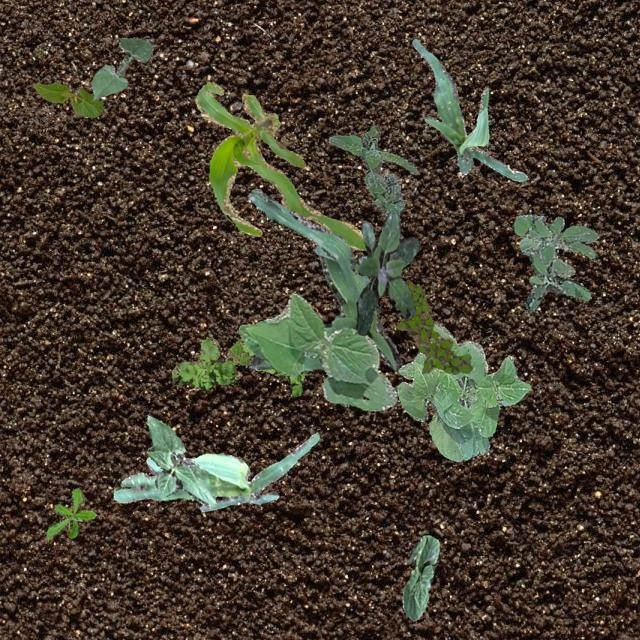crop: (195, 82, 365, 250), (246, 188, 402, 370), (396, 320, 530, 460), (238, 292, 396, 409), (412, 38, 528, 180), (112, 432, 318, 511), (146, 414, 216, 508), (90, 36, 152, 98), (402, 534, 438, 620), (32, 82, 102, 116)
weed: (328, 124, 417, 216), (170, 336, 306, 396), (354, 208, 418, 334), (524, 213, 596, 310), (396, 278, 470, 372), (514, 213, 598, 276), (44, 486, 96, 538)
